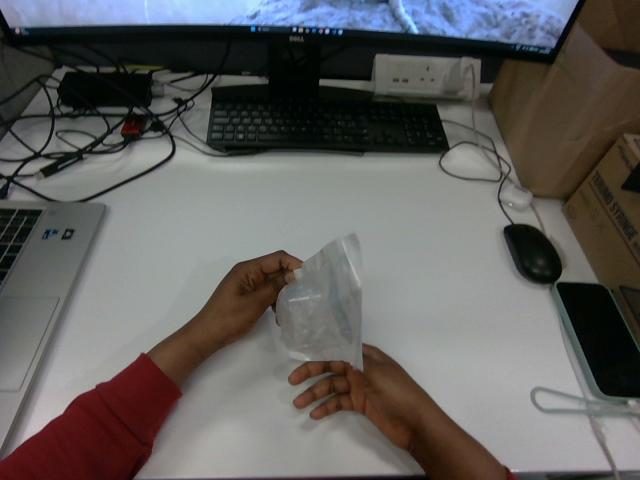gallipot: (276, 233, 362, 368)
